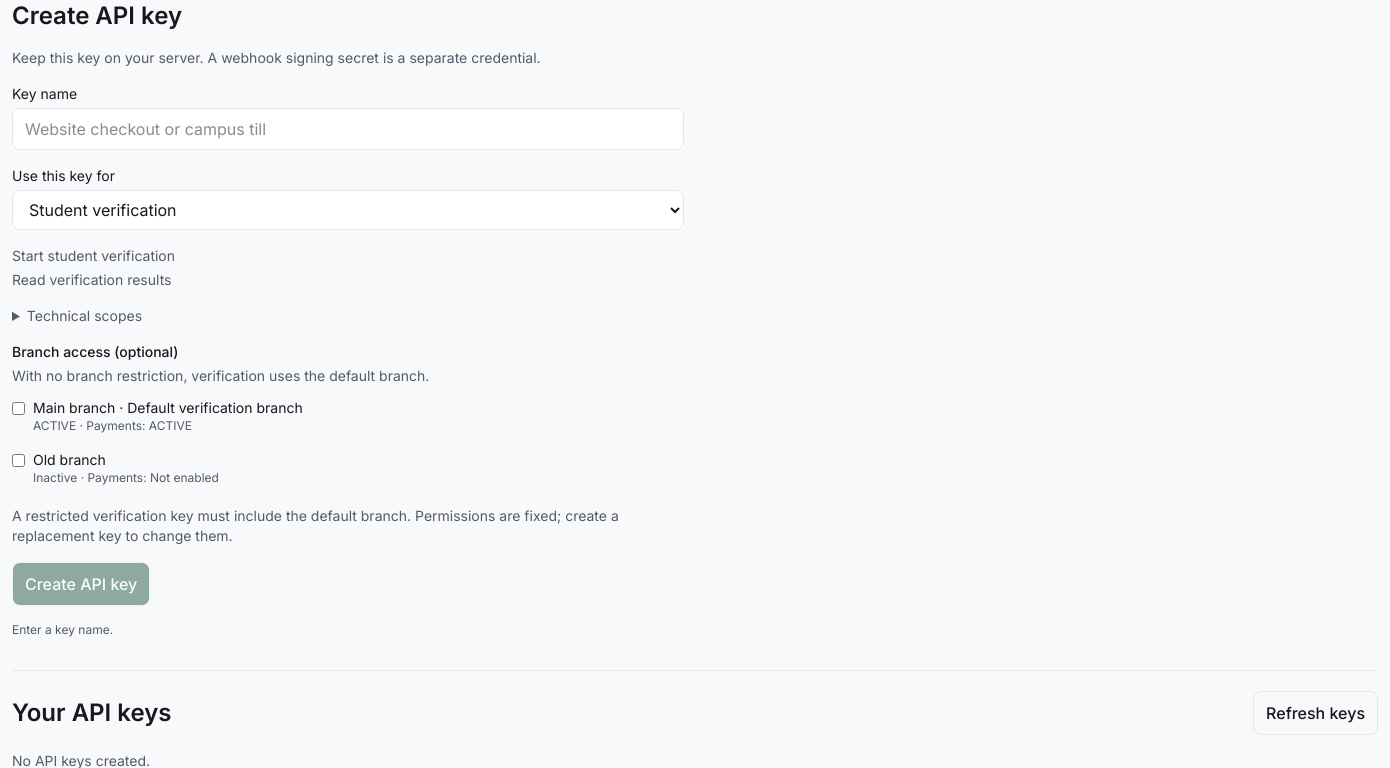
Test: canonical integration credentials › recovers key history after an ambiguous HTTP 500 without repeating creation
Type "Checkout" into the field labelled "Key name" at (348, 129), box top-left (12, 108), bottom-right (684, 150)
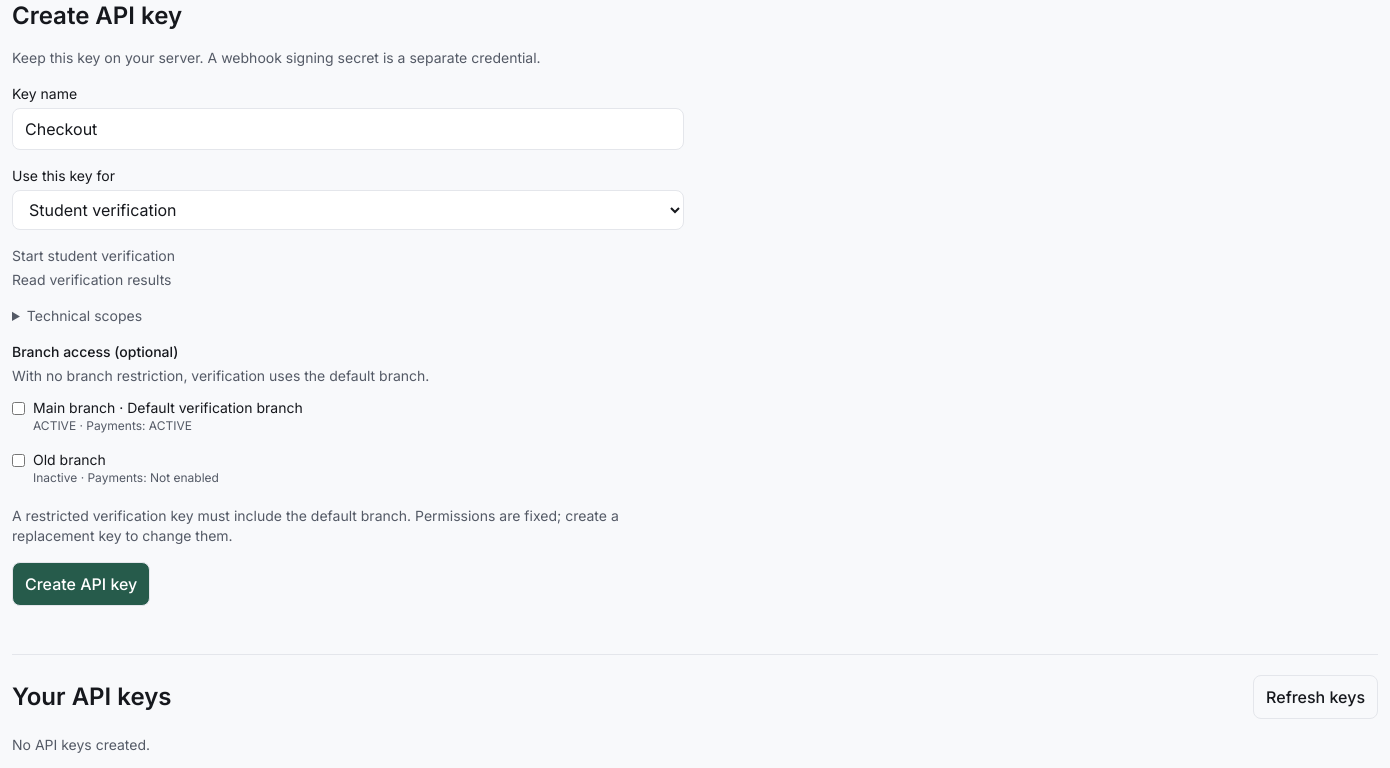
Click the button "Create API key" at (81, 584), box top-left (12, 562), bottom-right (150, 606)
(page scrolled)
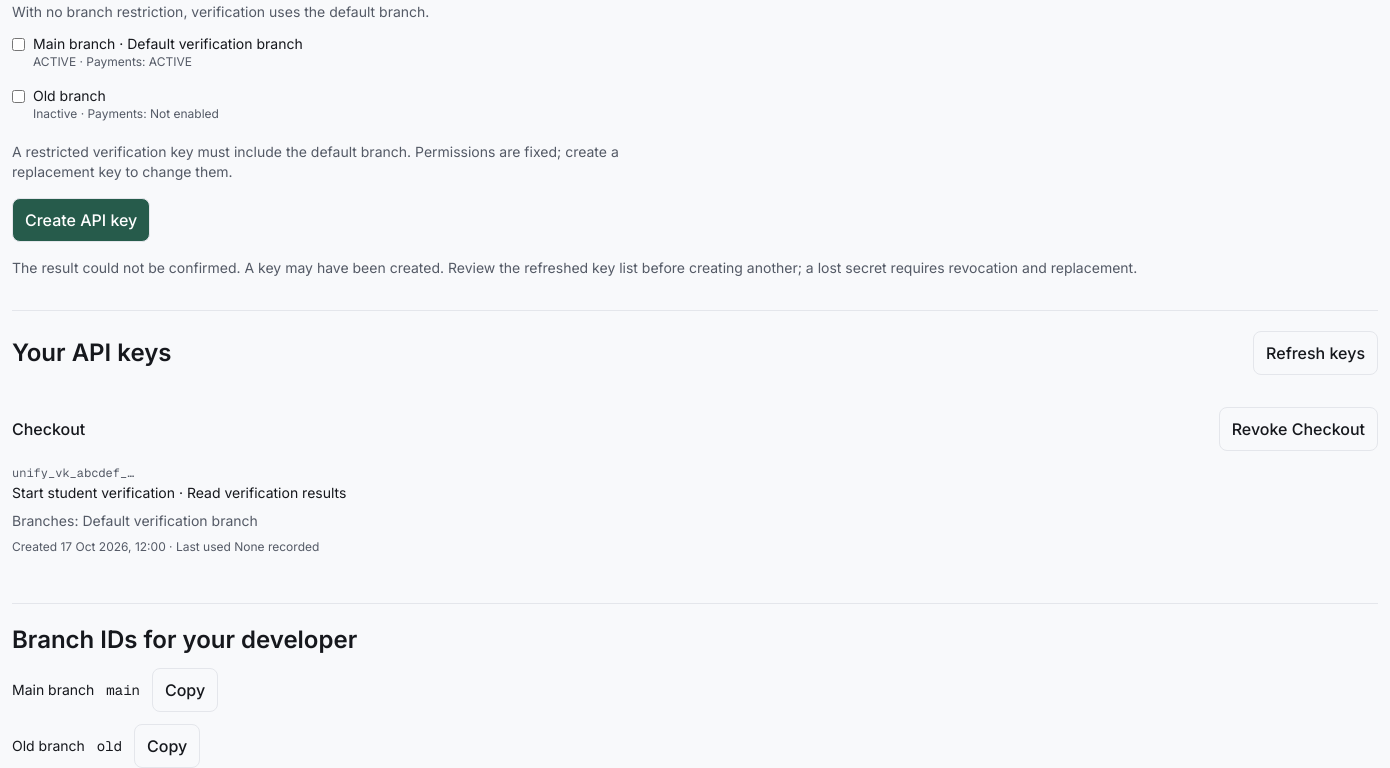
Expected: the text "A key may have been created" is shown, top-left (12, 259), bottom-right (1137, 276)
Expected: the heading "Checkout" is shown, top-left (12, 417), bottom-right (85, 441)
